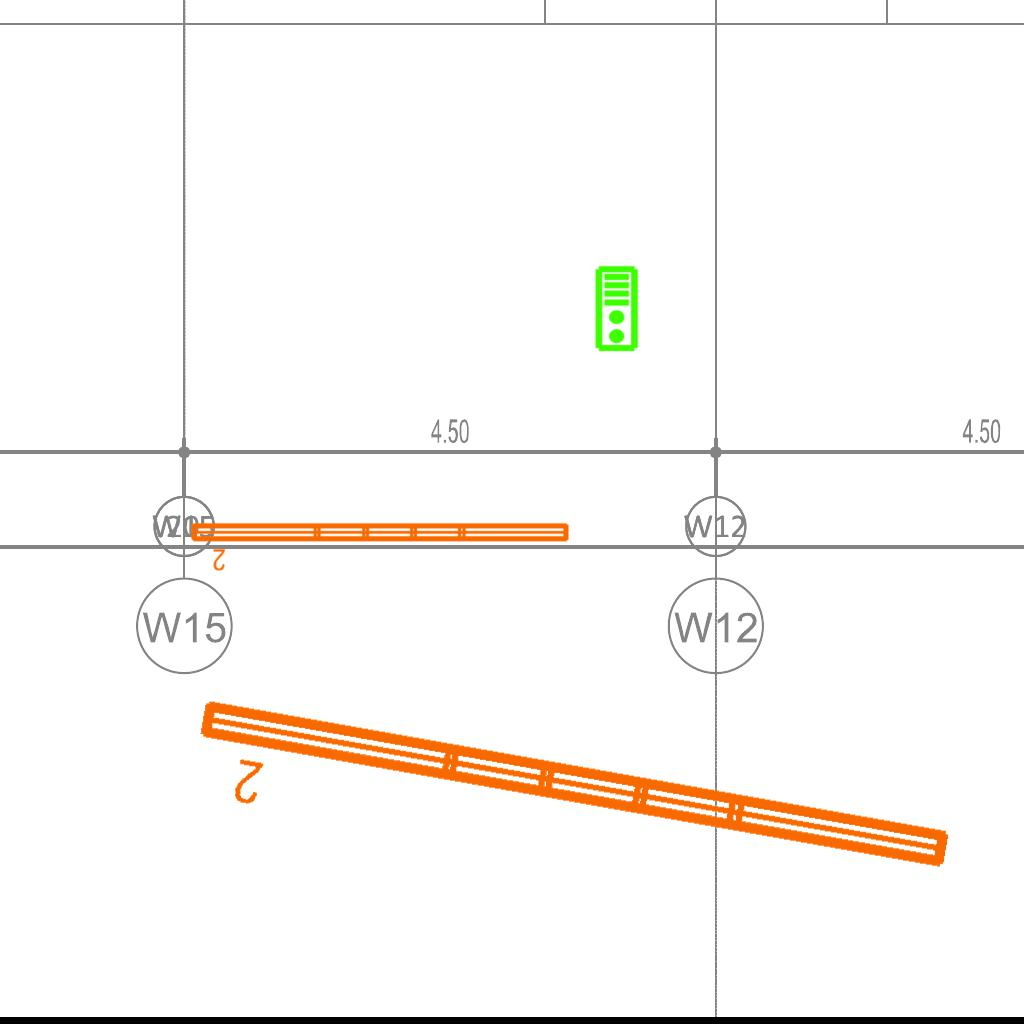Ambulanz_Pendelleuchte_LED: (180, 686, 962, 932), (187, 517, 574, 573)
Gegensprechanlage_mit_Video: (594, 265, 641, 353)
